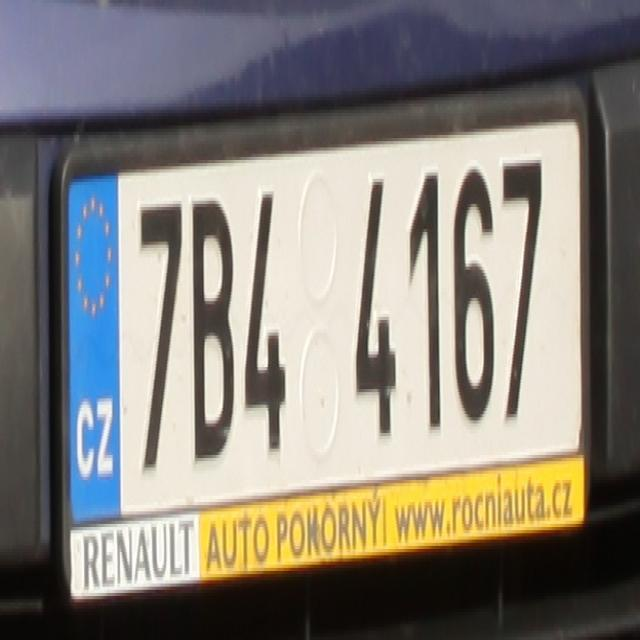1: (407, 160, 442, 436)
4: (240, 191, 287, 455), (350, 170, 395, 442)
6: (450, 160, 494, 424)
7: (132, 204, 184, 471), (499, 160, 544, 430)
B: (187, 191, 234, 458)
